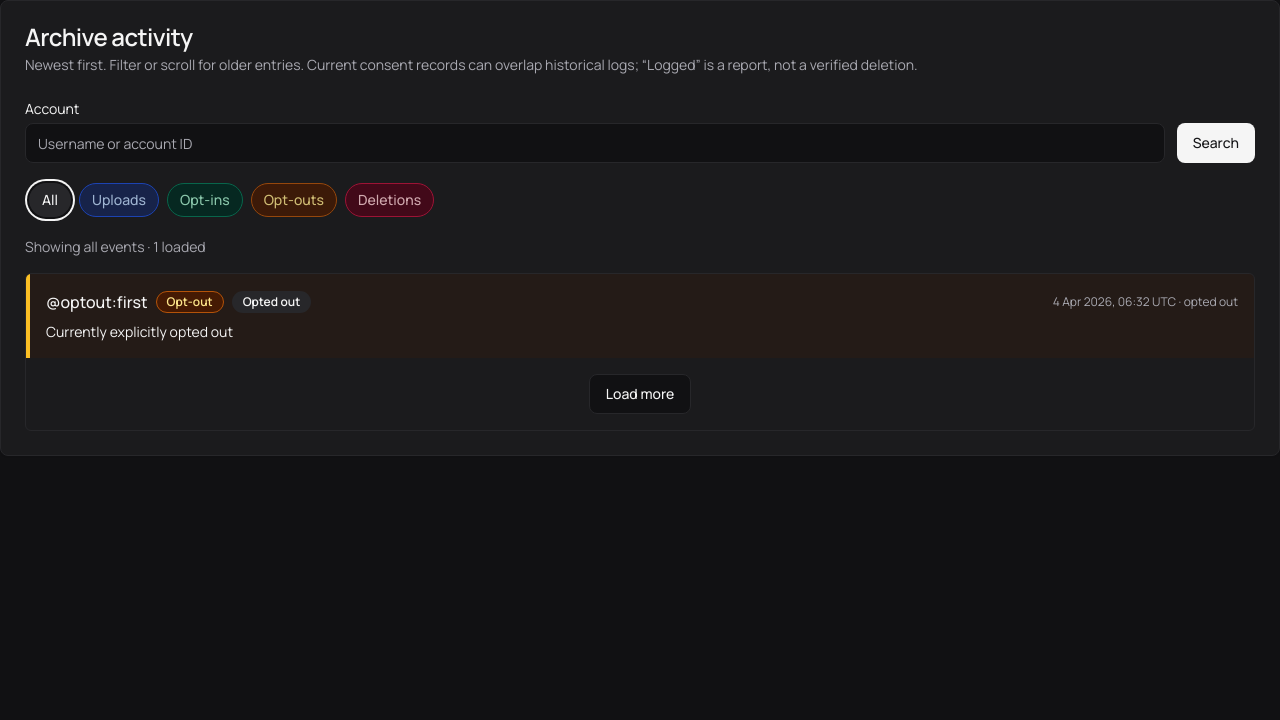
Scenario: failed filter retries the requested filter from the beginning
The image size is (1280, 720).
In the field labelled "Account": x=595, y=143 x1=25 y1=123 x2=1165 y2=163, type "emergentvibe"
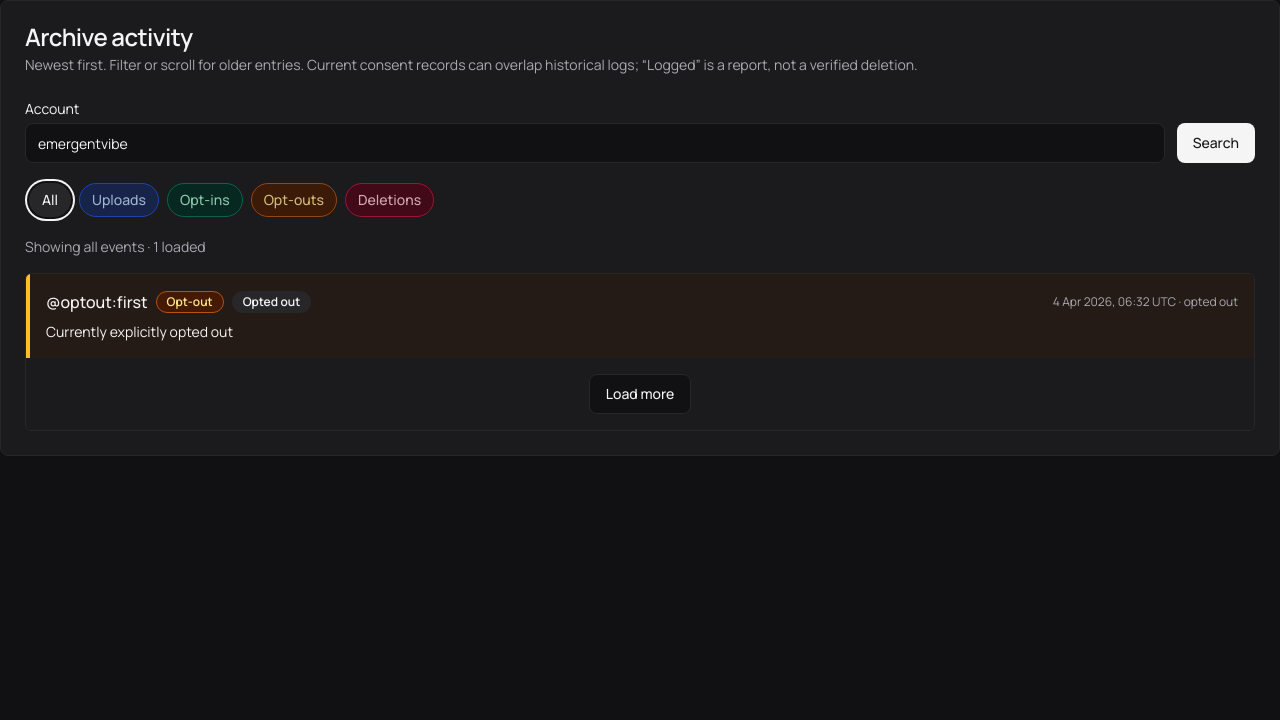
Click the button "Opt-outs": x=294, y=200 x1=251 y1=183 x2=337 y2=217
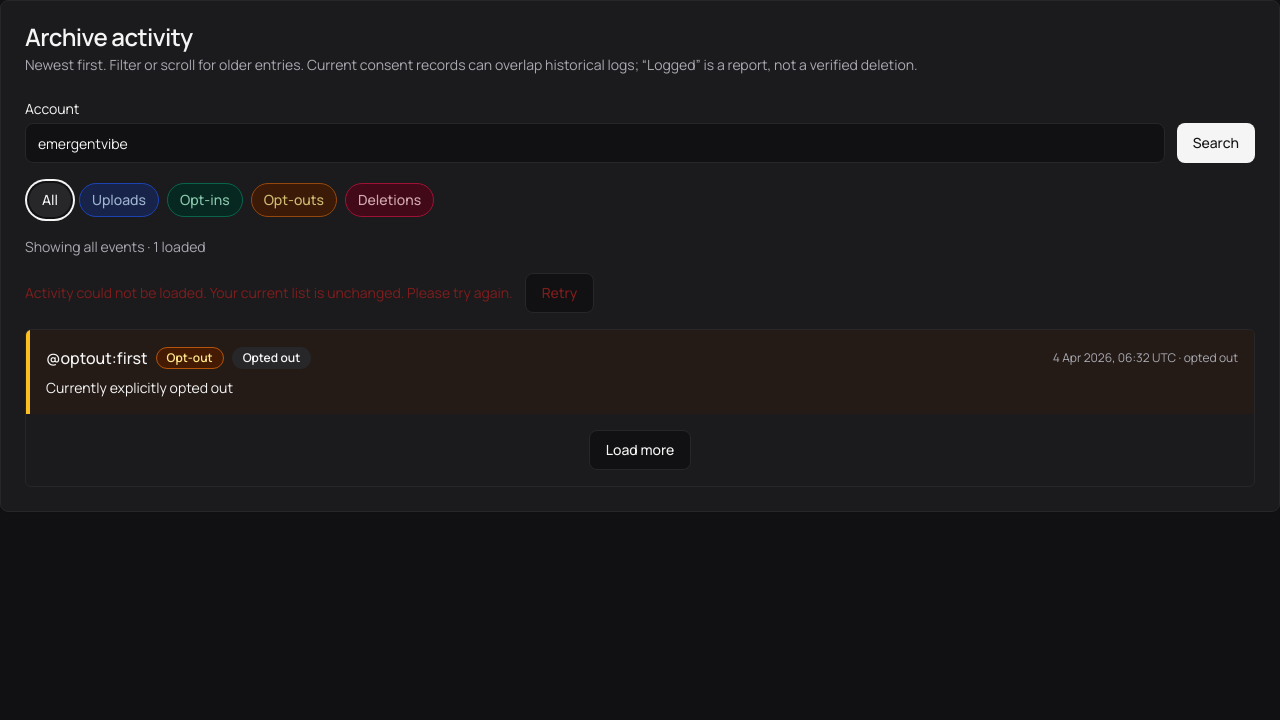
expect the message is shown: met, box x1=25 y1=273 x2=594 y2=313
Click the button "Retry": x=559, y=293 x1=525 y1=273 x2=594 y2=313
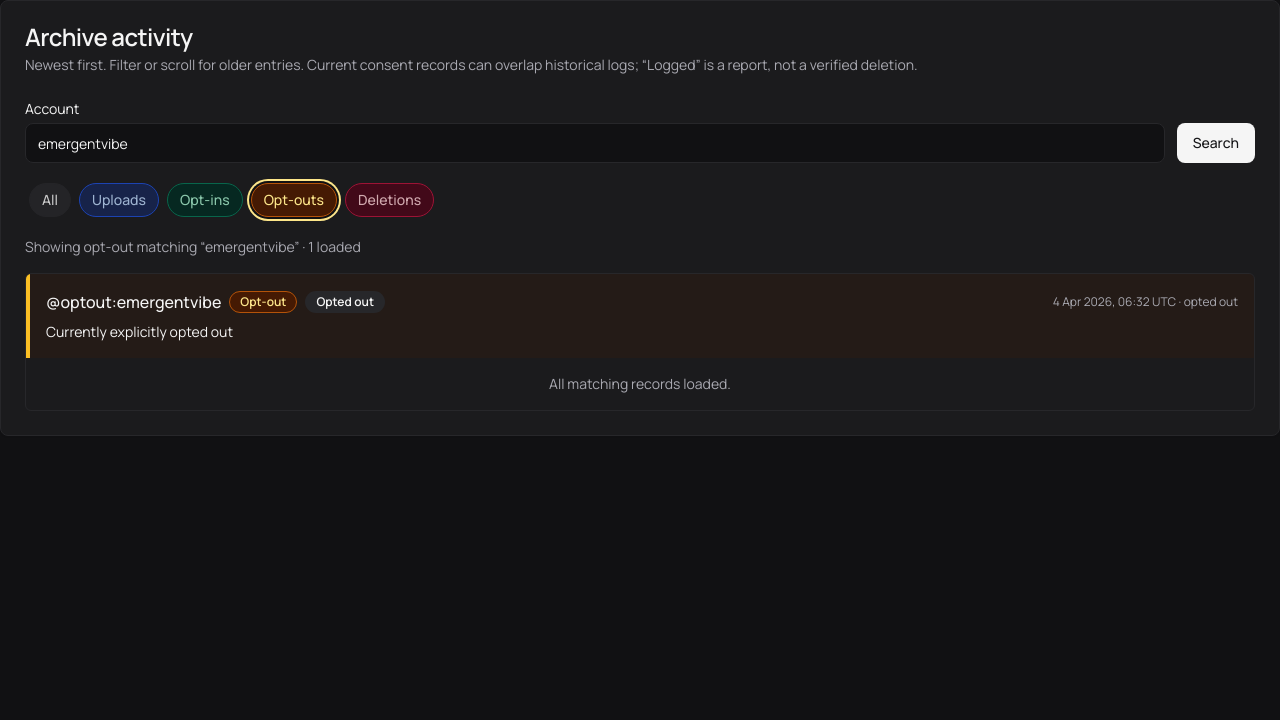
expect the text "@optout:emergentvibe" is shown: met, box x1=46 y1=290 x2=221 y2=314
expect the text "@optout:first" is gone: met
